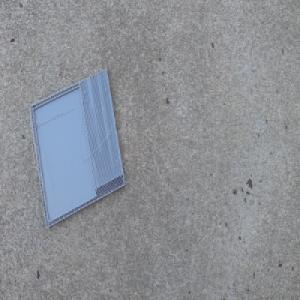PlasticPart: (28, 66, 125, 228)
